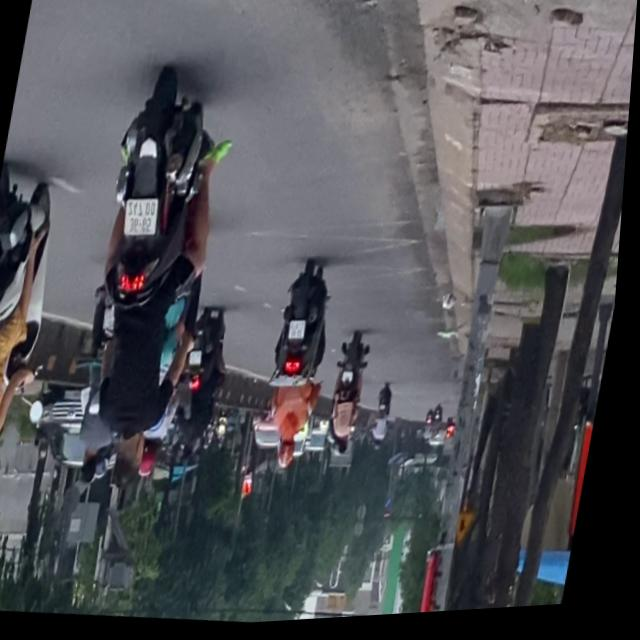helmet: (280, 438, 303, 475), (143, 443, 165, 481)
licenseplate: (61, 64, 247, 503), (0, 158, 70, 511), (256, 260, 346, 478)
motorcyclist: (114, 435, 152, 491), (82, 452, 106, 491)
nohelmet: (123, 200, 161, 242), (292, 324, 311, 345)
